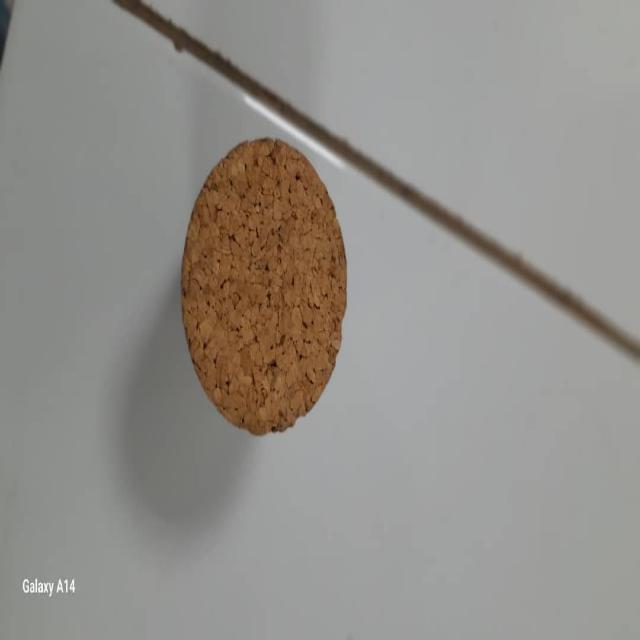Stopper: (176, 130, 349, 441)
